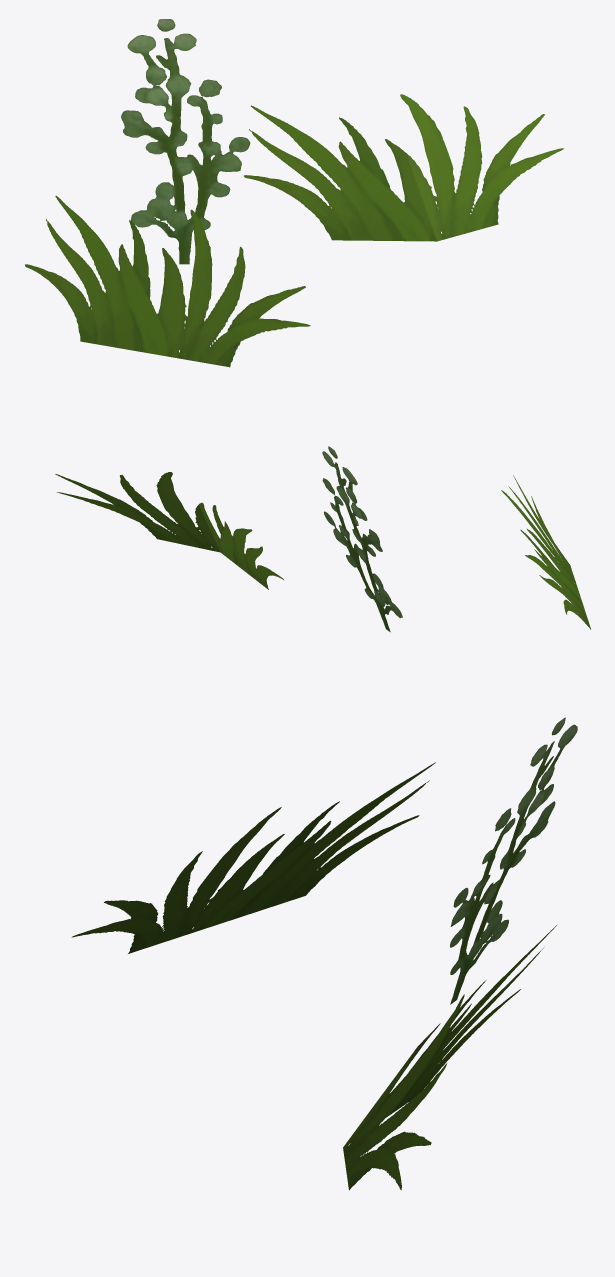
The model's file is grass_10.FBX.
3 renders of one model, top to bottom at view 1: azimuth 30°, elevation 25°; view 2: azimuth 150°, elevation 25°; view 3: azimuth 270°, elevation 25°, orthographic. The views are drawn at different scales.
Visible parts, largest first — view 1: 对象005; view 2: 对象005; view 3: 对象005.
Boxes of the visible parts, x1,y1,x2,y2 form: 对象005: [25, 19, 563, 367]; 对象005: [55, 446, 591, 632]; 对象005: [71, 717, 577, 1190].
Bounding box in the file's own units: 1.31 × 0.4683 × 0.8254.
Materials: 1 (1 with a texture image).
